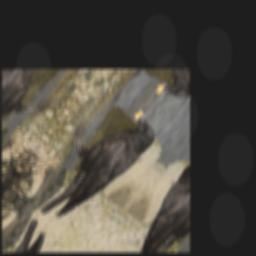Crow: (19, 88, 166, 238)
